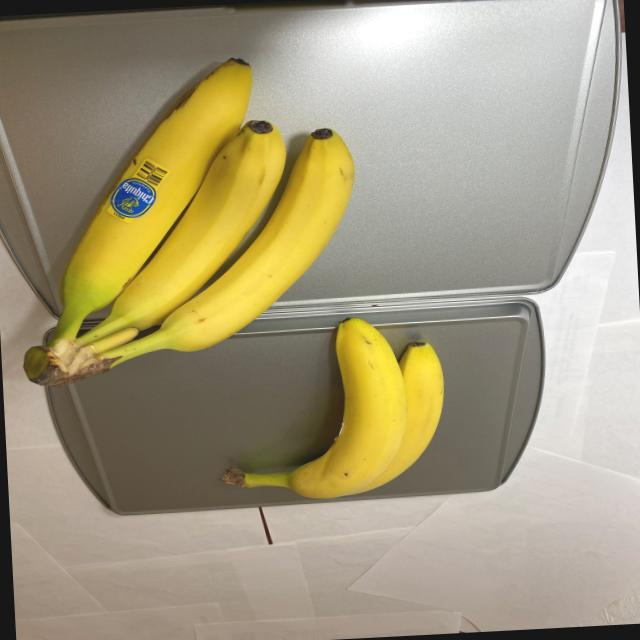banana: (4, 46, 372, 390), (206, 314, 460, 506)
